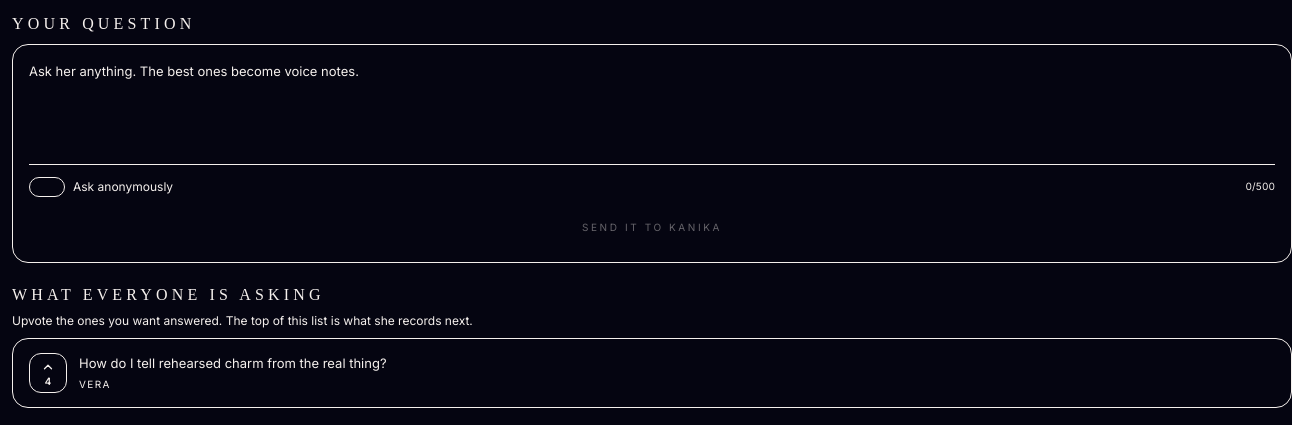
Test: the queue › takes the server's count over the optimistic one
The width and height of the screenshot is (1292, 425).
Click the button named "Upvote" at (48, 373), box x1=29 y1=353 x2=67 y2=393
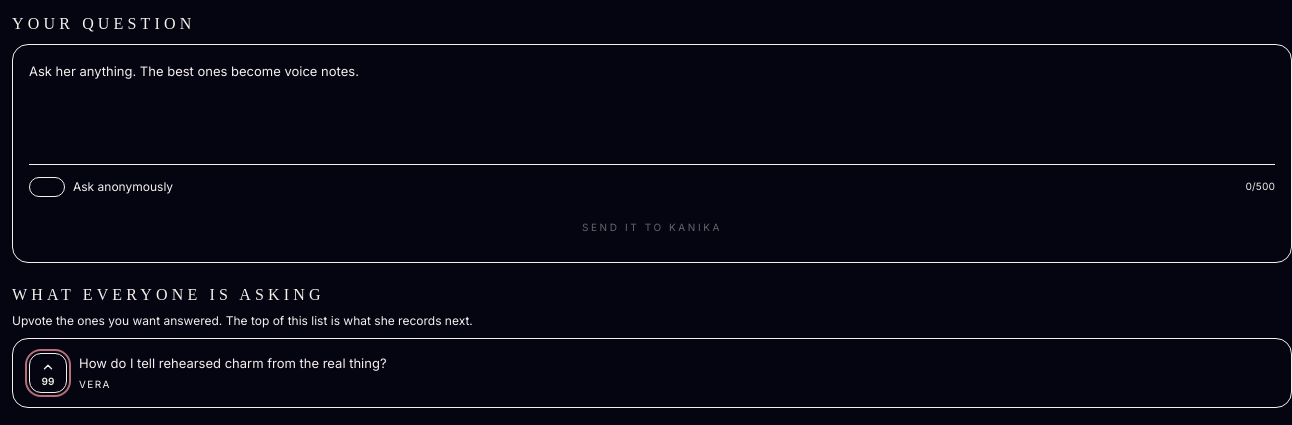
Expected: the text "99" is shown, x1=42 y1=376 x2=54 y2=386
